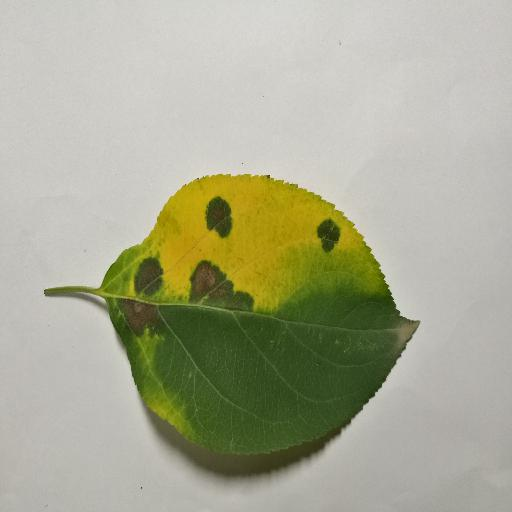Brown_Spot: (185, 257, 243, 307), (119, 261, 168, 295), (203, 194, 239, 239), (120, 298, 156, 338), (310, 214, 343, 252)
